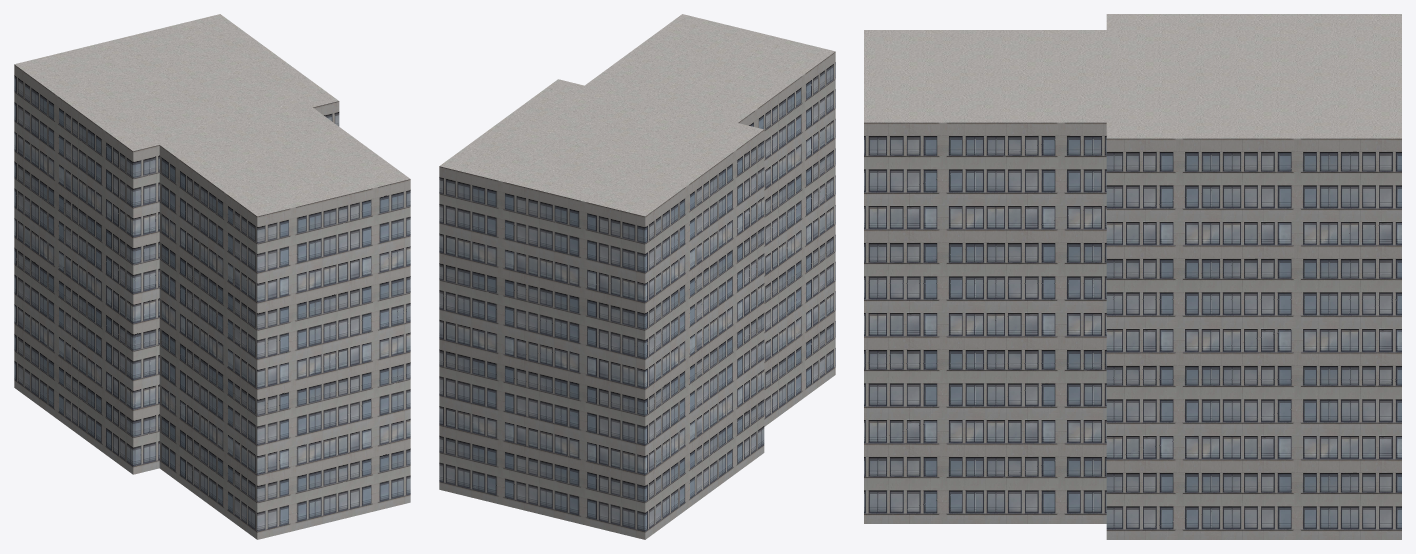
The model's file is building_041.fbx.
The picture shows the model from 3 angles, left to right: view 1: azimuth 30°, elevation 25°; view 2: azimuth 150°, elevation 25°; view 3: azimuth 270°, elevation 25°; orthographic projection. The views are drawn at different scales.
Visible parts, largest first — view 1: building_041; view 2: building_041; view 3: building_041.
Part boxes in pixels (box(x1,y1,x2,y2)): building_041: box(14, 14, 410, 539); building_041: box(439, 14, 835, 539); building_041: box(864, 14, 1401, 539).
Bounding box in the file's own units: 1000 × 1500 × 1822.
